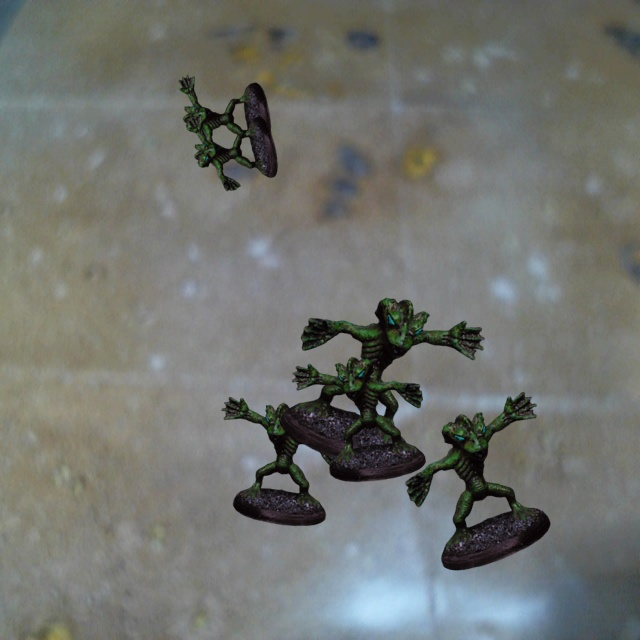pieza_juego: (280, 298, 484, 469), (405, 392, 550, 570), (292, 357, 425, 481), (221, 397, 339, 525), (178, 75, 270, 158), (187, 115, 277, 190)
